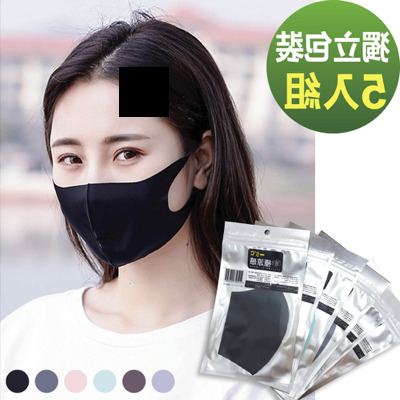with_mask: (51, 122, 197, 266)
